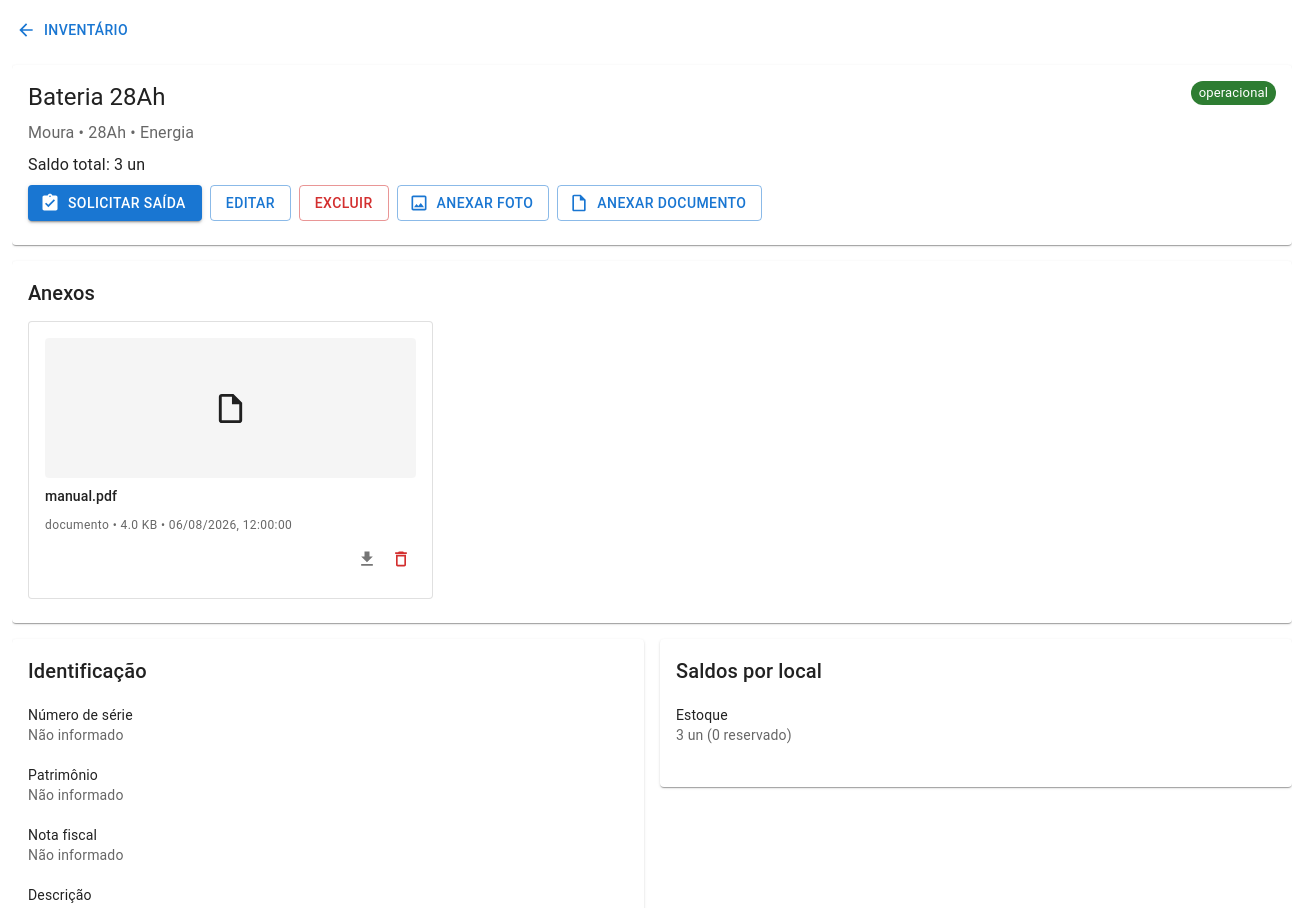
anexos no detalhe do inventário › mantém download para documentos
expect the heading "manual.pdf" is shown: met, box [45,488,117,504]
What coordinates should you click on to do the following:
click the button named "baixar manual.pdf"
I would click on:
 (367, 559)
Its box is [352,544,382,574].
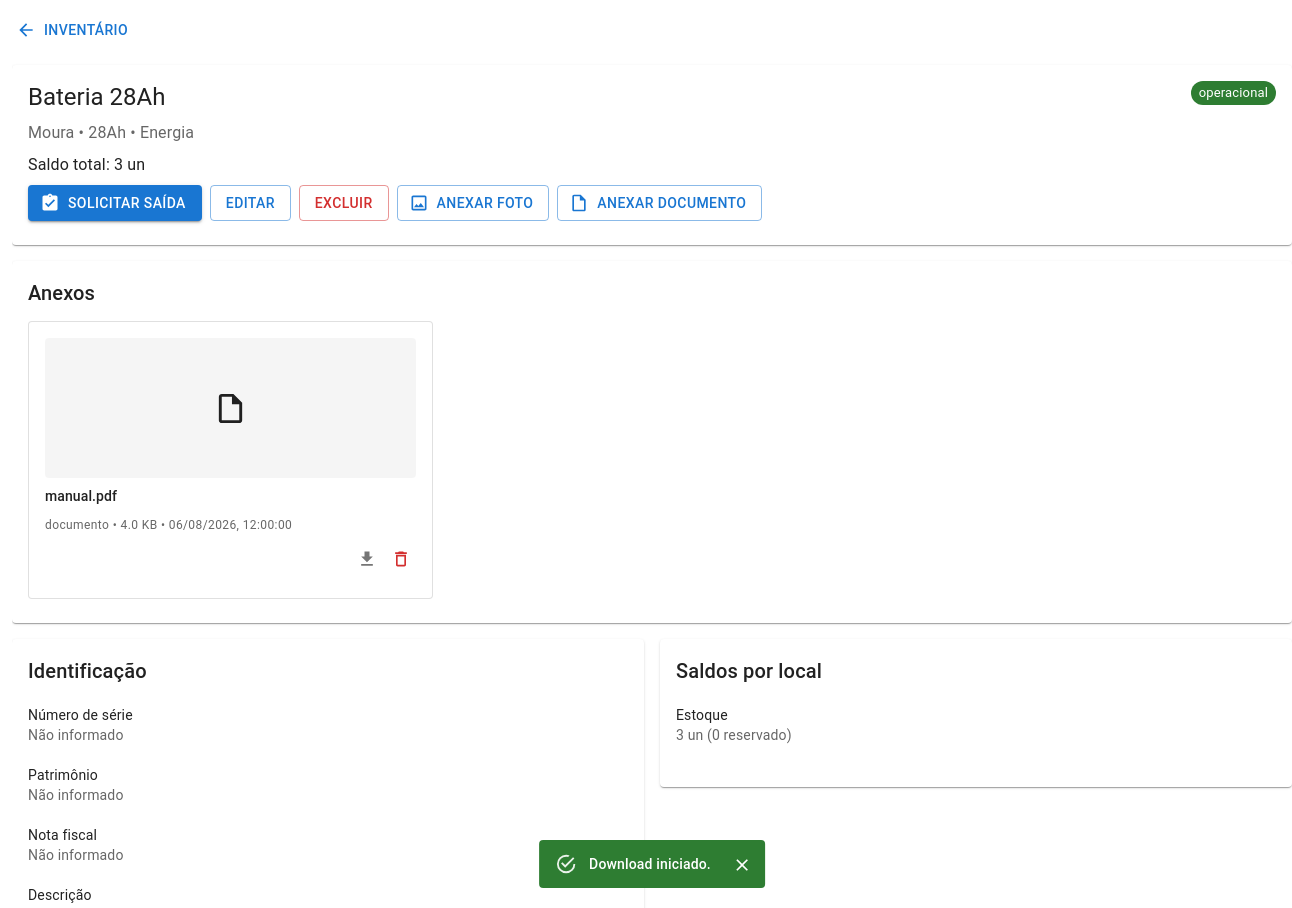
expect the text "Download iniciado." is shown: met, box [589,856,711,872]
